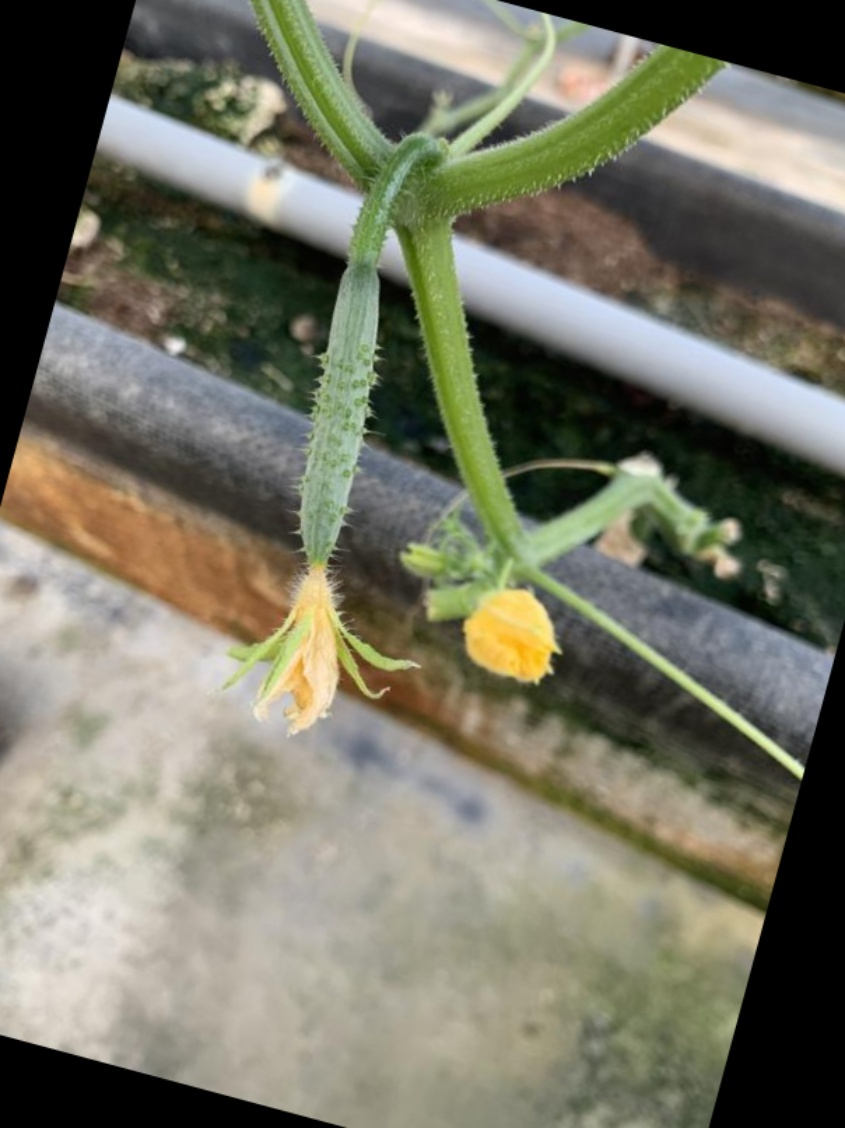bear: (205, 235, 416, 751)
